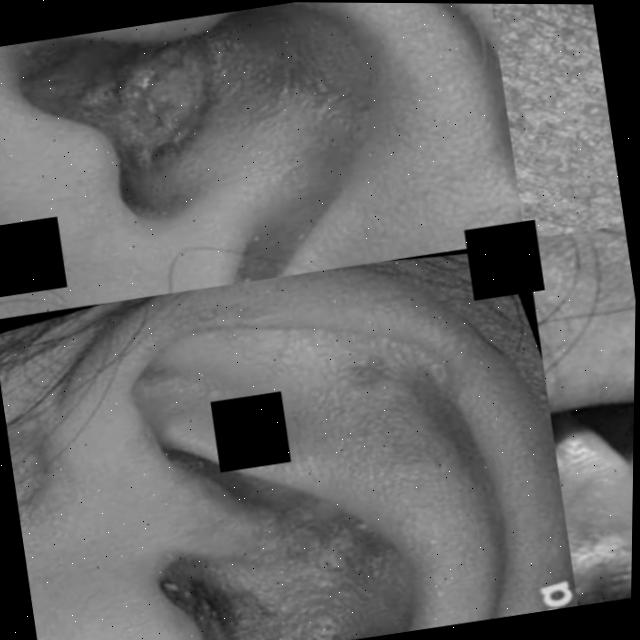lupus-detected: (73, 285, 583, 640), (0, 3, 308, 247), (519, 224, 637, 606), (0, 336, 152, 612), (508, 4, 619, 179), (506, 105, 627, 240)
